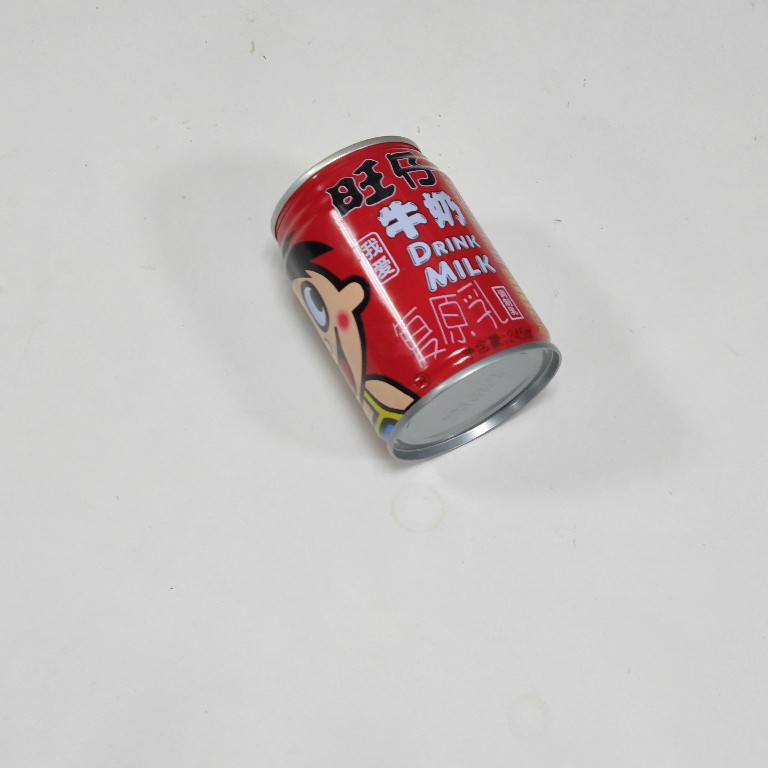can: (269, 133, 564, 465)
